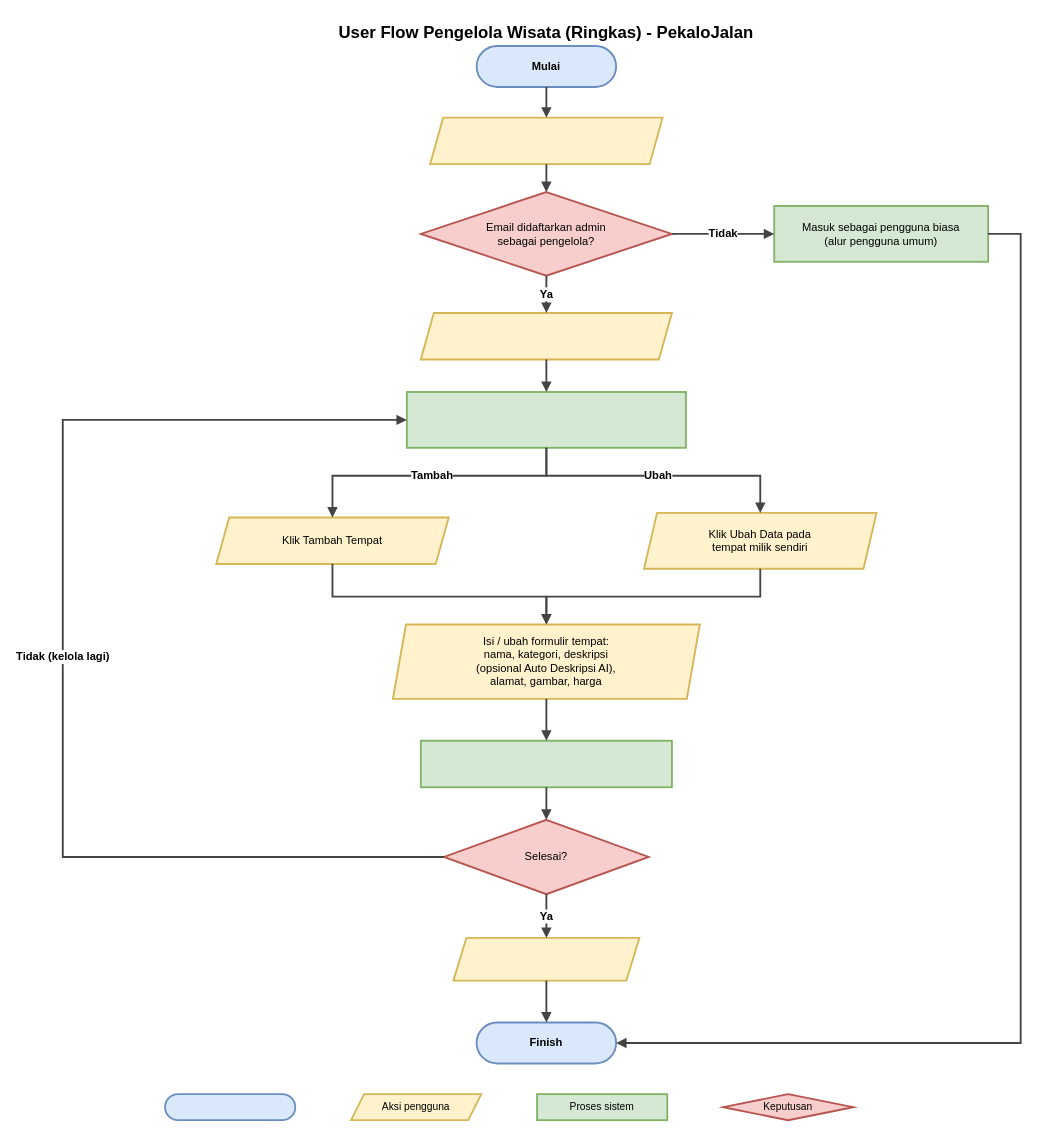
Some shapes in this 1044 by 1136 pixel diagram are drawn without their labels. The centre of each missing label's shape, as x and y in pixels:
Awal / Akhir: (x=230, y=1107)
Data tempat disimpan, tampil di sisi pengguna: (x=545, y=763)
Halaman Kelola Tempat Saya (kelengkapan profil + tempat milik sendiri): (x=545, y=419)
Klik Keluar (Logout): (x=546, y=959)
Login: Masuk dengan Google: (x=546, y=140)
Pilih menu Kelola Tempat Saya: (x=545, y=336)
